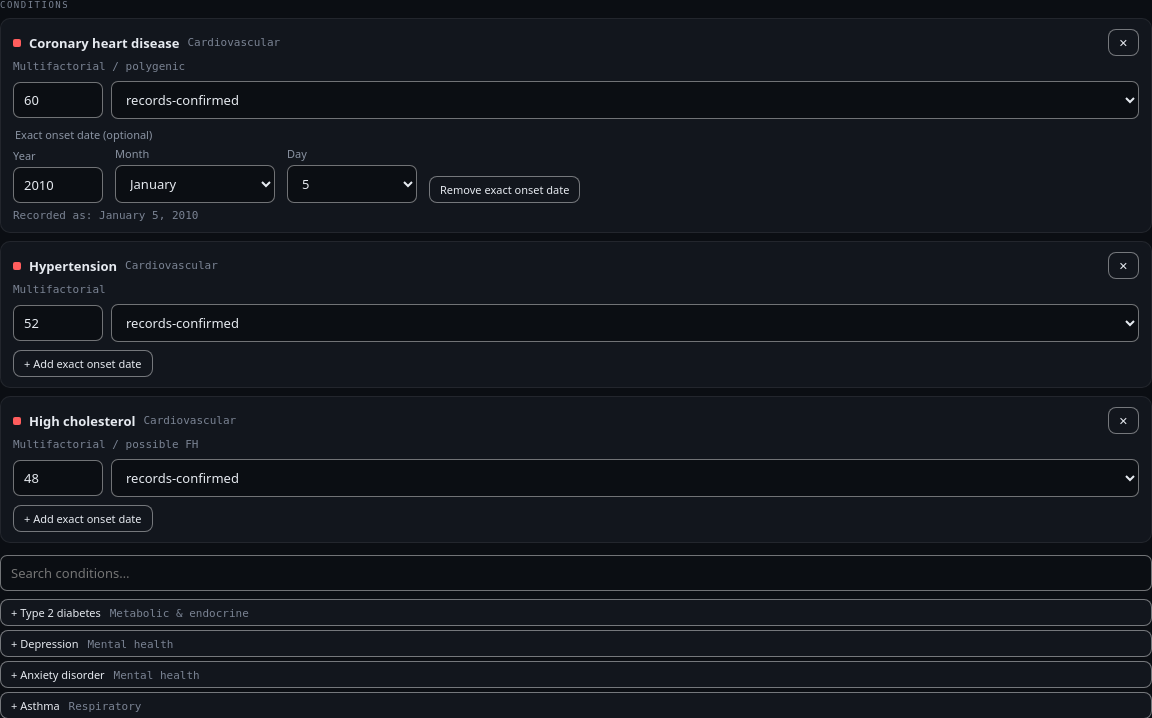
Test: ConditionPicker — exact onset date entry (W6) › removing the refinement clears onsetDate and collapses the disclosure
The width and height of the screenshot is (1152, 718).
Click the button "Remove exact onset date" at (505, 190), box [429, 176, 580, 203]
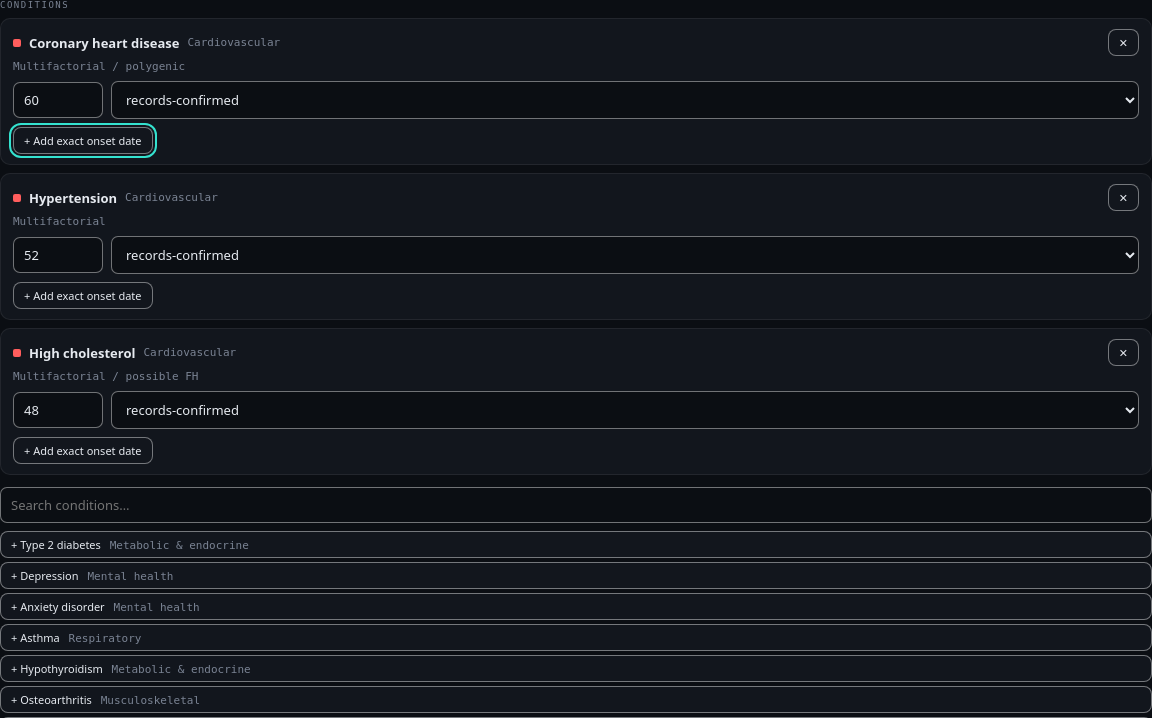
Now the button "+ Add exact onset date" below "Multifactorial / polygenic" is shown, box [13, 127, 152, 154]
